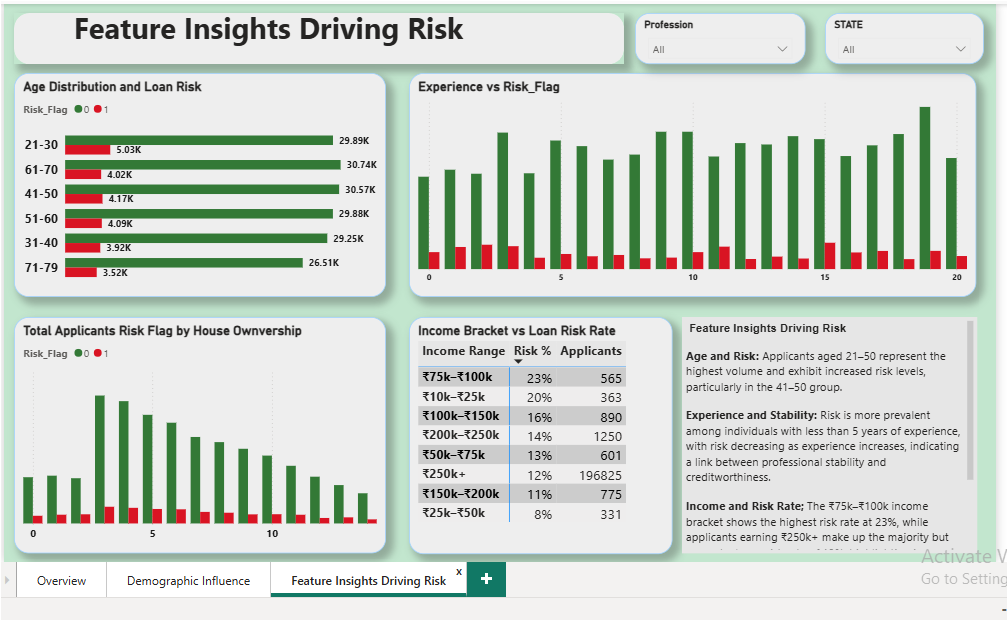

The page's visual inventory and layout, read from the dashboard file:
{"tool":"powerbi","page":{"name":"Feature Insights Driving Risk","canvas":[1280,720],"ordinal":2},"visuals":[{"type":"shape","box":[12.4,11,787.3,66.1],"z":0},{"type":"textbox","box":[12.4,0,761.1,64.7],"z":1000},{"type":"pivotTable","title":"Income Bracket vs Loan Risk Rate","fields":{"Rows":["train_cleaned.Income Range"],"Values":["train_cleaned.Risk %","CountNonNull(train_cleaned.Id)"]},"box":[523,403.9,340.2,306.1],"z":2000},{"type":"clusteredBarChart","title":"Age Distribution and Loan Risk","fields":{"Category":["train_cleaned.Age_Group"],"Series":["train_cleaned.Risk_Flag"],"Y":["CountNonNull(train_cleaned.Id)"]},"box":[12.4,89.5,480.3,289],"z":3000},{"type":"clusteredColumnChart","title":"Experience vs Risk_Flag","fields":{"Y":["CountNonNull(train_cleaned.Risk_Flag)"],"Series":["train_cleaned.Risk_Flag"],"Category":["train_cleaned.Experience"]},"box":[523,89.5,732.2,289],"z":4000},{"type":"clusteredColumnChart","title":"Total Applicants Risk Flag by House Ownvership","fields":{"Category":["train_cleaned.CURRENT_JOB_YRS"],"Series":["train_cleaned.Risk_Flag"],"Y":["CountNonNull(train_cleaned.Id)"]},"box":[12.8,403.9,480.5,304.7],"z":5000},{"type":"slicer","title":"STATE","fields":{"Values":["train_cleaned.STATE"]},"box":[1059.4,11.6,205.2,65.8],"z":6000},{"type":"slicer","title":"Profession","fields":{"Values":["train_cleaned.Profession"]},"box":[814.8,11,220.2,66.1],"z":7000},{"type":"textbox","box":[874.5,403.9,381.3,304.7],"z":8000}]}

Visuals, with their boxes on the page's 1280x720 design canvas (x1, y1, x2, y2). These are canvas units, not pixel positions in the 1008x621 screenshot, which may show the page scaled, cropped or inside an application window:
shape: 12, 11, 800, 77
textbox: 12, 0, 774, 65
"Income Bracket vs Loan Risk Rate" pivotTable: 523, 404, 863, 710
"Age Distribution and Loan Risk" clusteredBarChart: 12, 90, 493, 378
"Experience vs Risk_Flag" clusteredColumnChart: 523, 90, 1255, 378
"Total Applicants Risk Flag by House Ownvership" clusteredColumnChart: 13, 404, 493, 709
"STATE" slicer: 1059, 12, 1265, 77
"Profession" slicer: 815, 11, 1035, 77
textbox: 874, 404, 1256, 709
